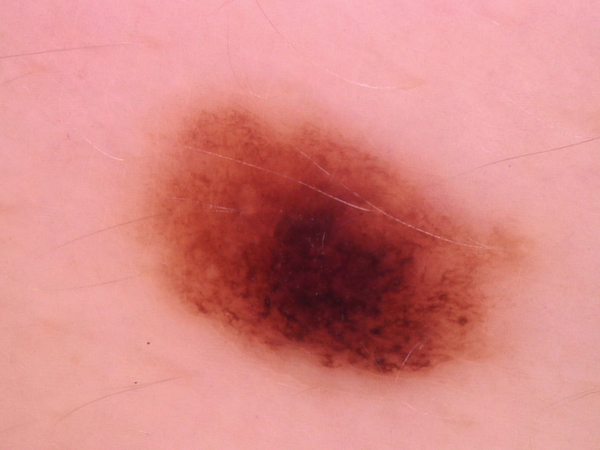Detected Lesion: (136, 93, 523, 378)
